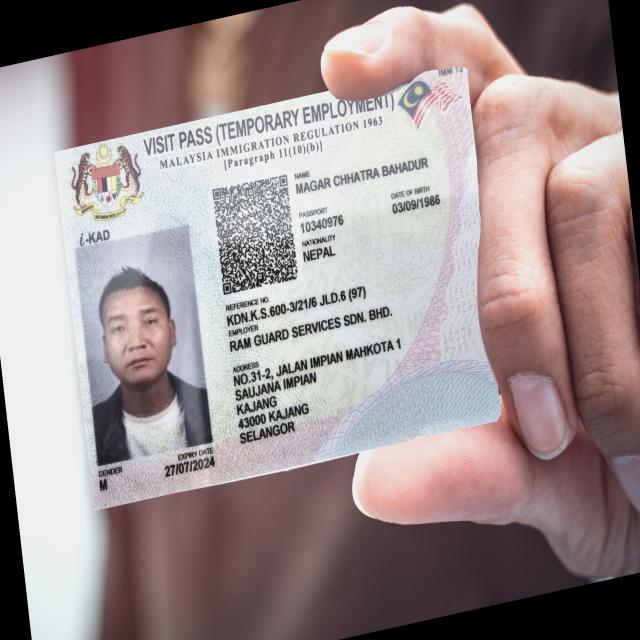ikad-temp: (53, 64, 502, 511)
